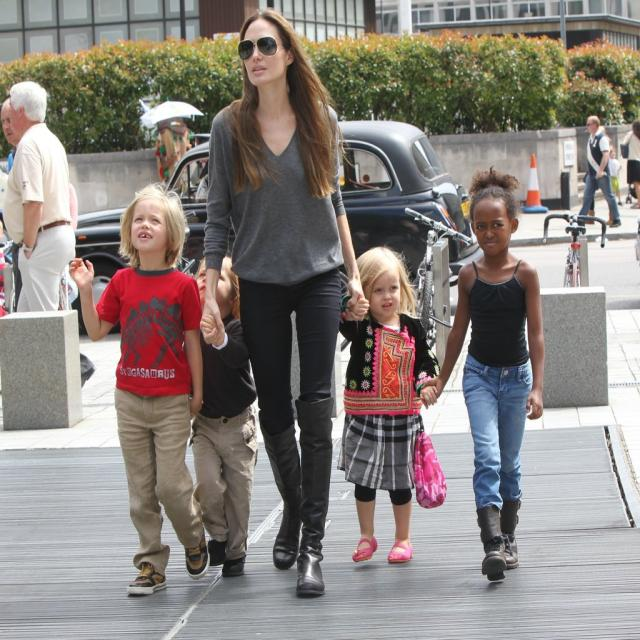body: (198, 3, 366, 603), (67, 182, 212, 604), (419, 164, 546, 583), (331, 242, 451, 568), (184, 250, 259, 580), (2, 81, 77, 313), (0, 96, 25, 314), (573, 114, 620, 228), (583, 124, 618, 226), (147, 114, 195, 182), (620, 119, 640, 211), (607, 148, 622, 206)
